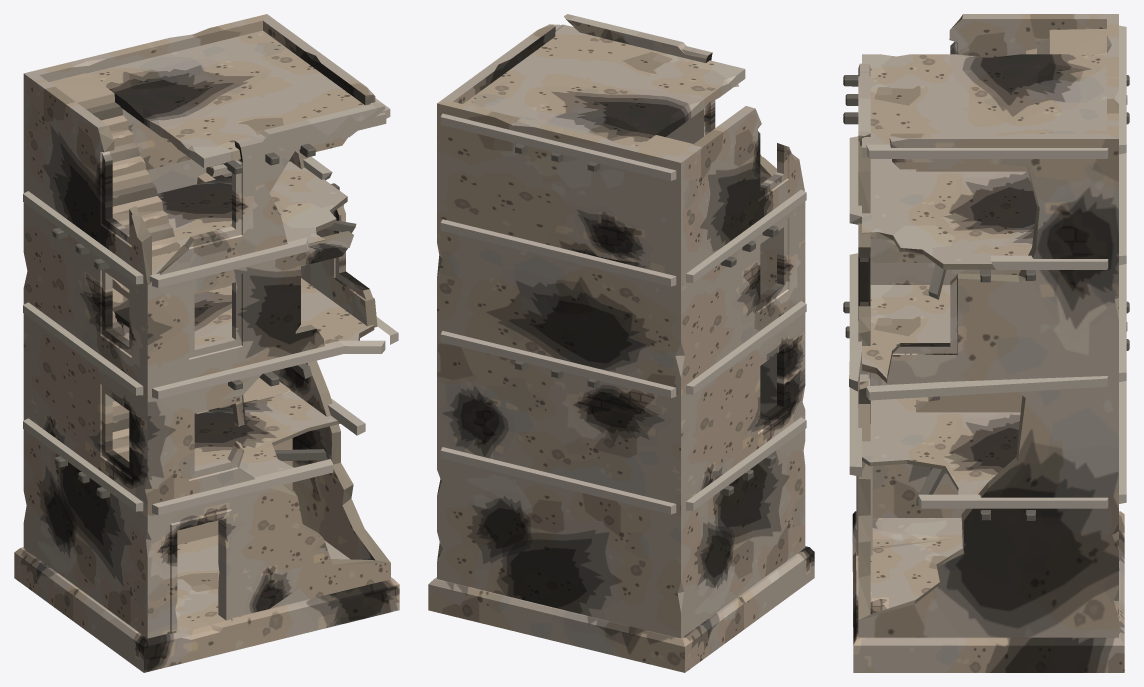
The model's file is SM_Bld_Village_House_04_Destroyed.glb.
3 renders of one model, left to right at view 1: azimuth 30°, elevation 25°; view 2: azimuth 150°, elevation 25°; view 3: azimuth 270°, elevation 25°, orthographic. The views are drawn at different scales.
Visible parts, largest first — view 1: SM_Bld_Village_House_04_Destroyed; view 2: SM_Bld_Village_House_04_Destroyed; view 3: SM_Bld_Village_House_04_Destroyed.
Boxes of the visible parts, box(x1,y1,x2,y2) form: SM_Bld_Village_House_04_Destroyed: box(14, 14, 399, 672); SM_Bld_Village_House_04_Destroyed: box(428, 14, 814, 672); SM_Bld_Village_House_04_Destroyed: box(843, 14, 1129, 672).
Bounding box in the file's own units: 6.71 × 12.11 × 5.92.
Materials: 1 (1 with a texture image).
